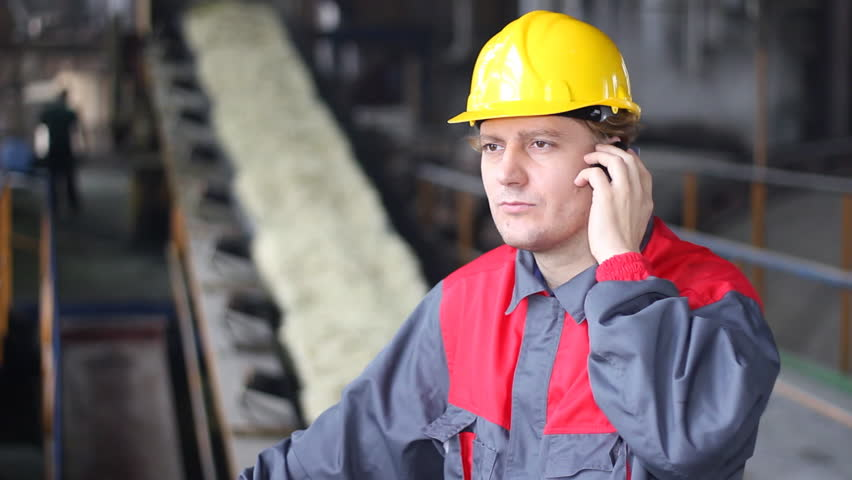Person_wearing_helmet: (440, 0, 653, 161)
